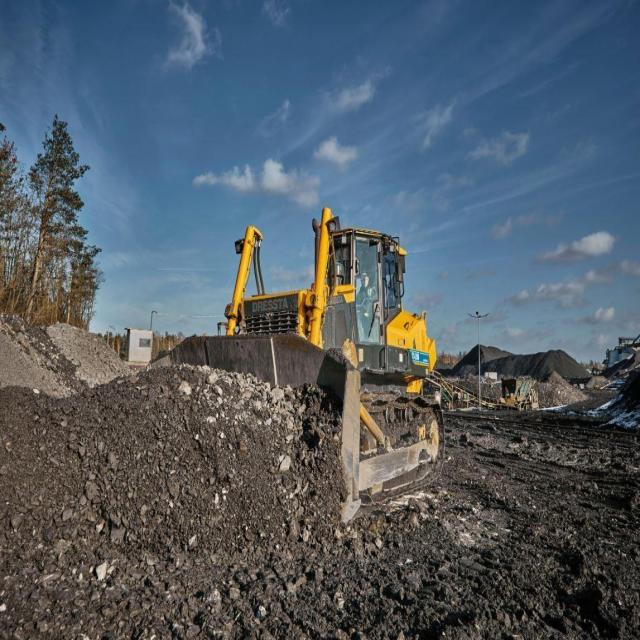buldozerpayloadergrader: (132, 188, 464, 524)
